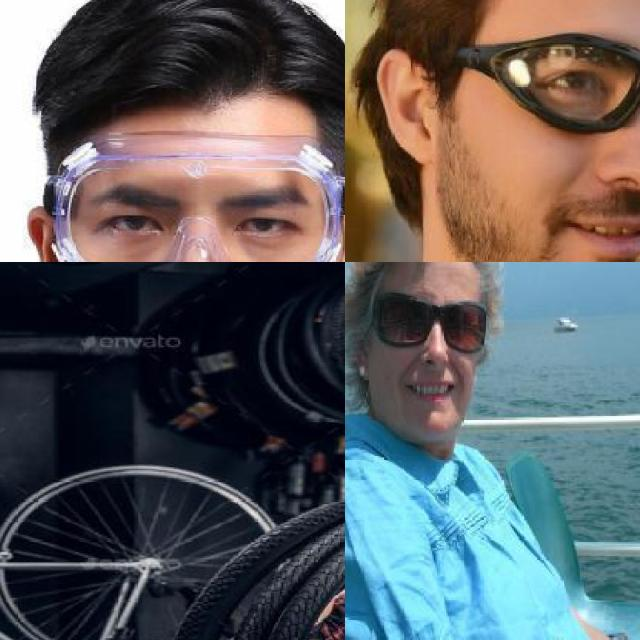No_Ear-Protection: (374, 42, 448, 169)
face_nomask: (507, 49, 640, 262), (89, 194, 305, 262), (370, 291, 484, 409)
glasses: (43, 132, 345, 262), (445, 29, 640, 148), (358, 292, 484, 352)
head_nohelmet: (38, 0, 345, 133)
person: (345, 262, 640, 640), (0, 0, 345, 262)
